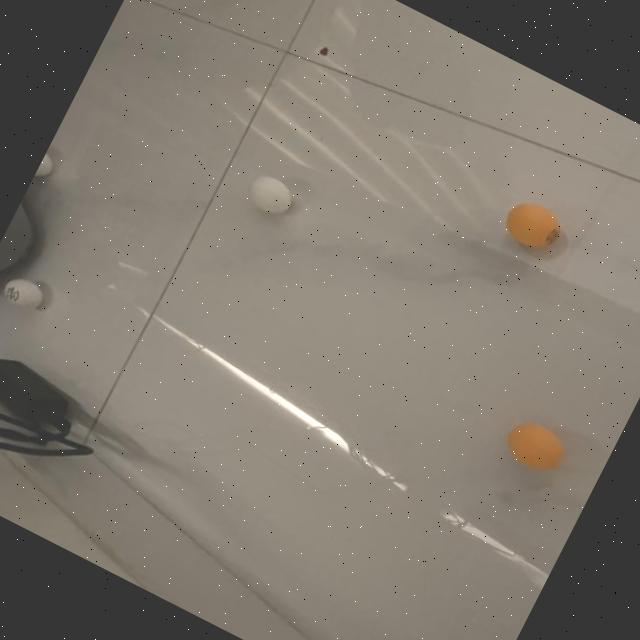ping-pong-ball: (496, 414, 572, 479), (498, 194, 567, 256), (241, 169, 300, 223), (0, 271, 49, 318), (34, 152, 59, 182)
